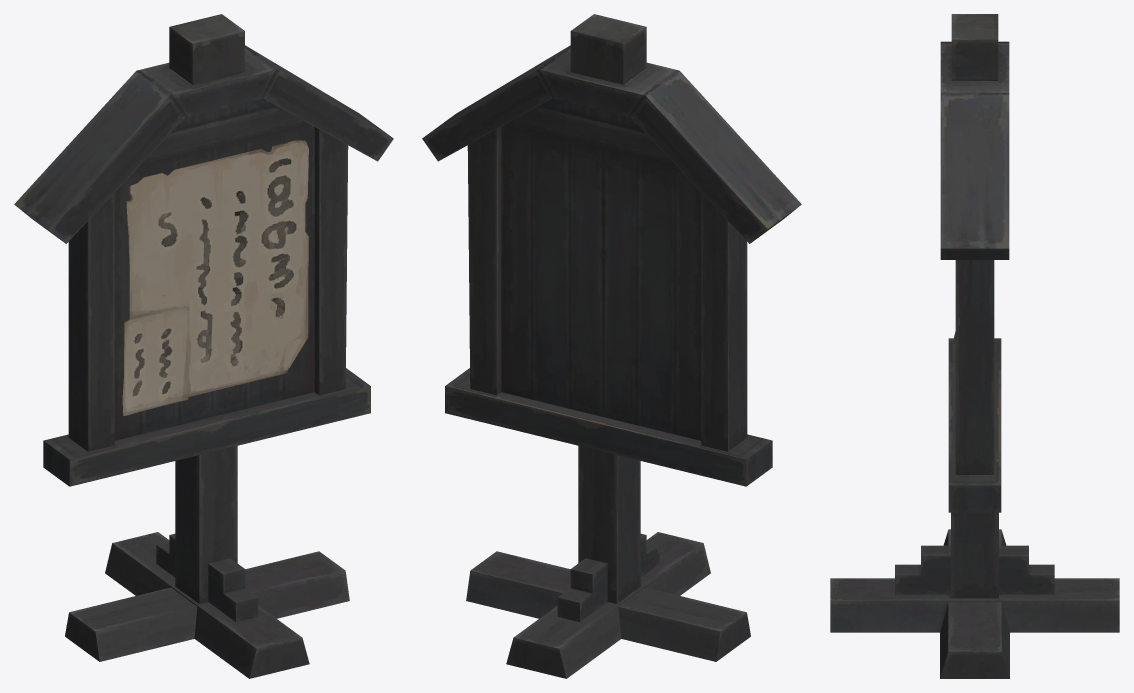
File: Homeworld_Exterior_Dq_Thing_Noticeboard_01_Vo.fbx
3 renders of one model, left to right at view 1: azimuth 30°, elevation 25°; view 2: azimuth 150°, elevation 25°; view 3: azimuth 270°, elevation 25°, orthographic.
Visible parts, largest first — view 1: Property_Prop_Noticeboard_05_Vo; view 2: Property_Prop_Noticeboard_05_Vo; view 3: Property_Prop_Noticeboard_05_Vo.
Part boxes in pixels (x1=…): Property_Prop_Noticeboard_05_Vo: x1=14, y1=14, x2=393, y2=678; Property_Prop_Noticeboard_05_Vo: x1=422, y1=14, x2=801, y2=678; Property_Prop_Noticeboard_05_Vo: x1=830, y1=14, x2=1119, y2=678.
Bounding box in the file's own units: 0.8602 × 1.4 × 0.6224.
